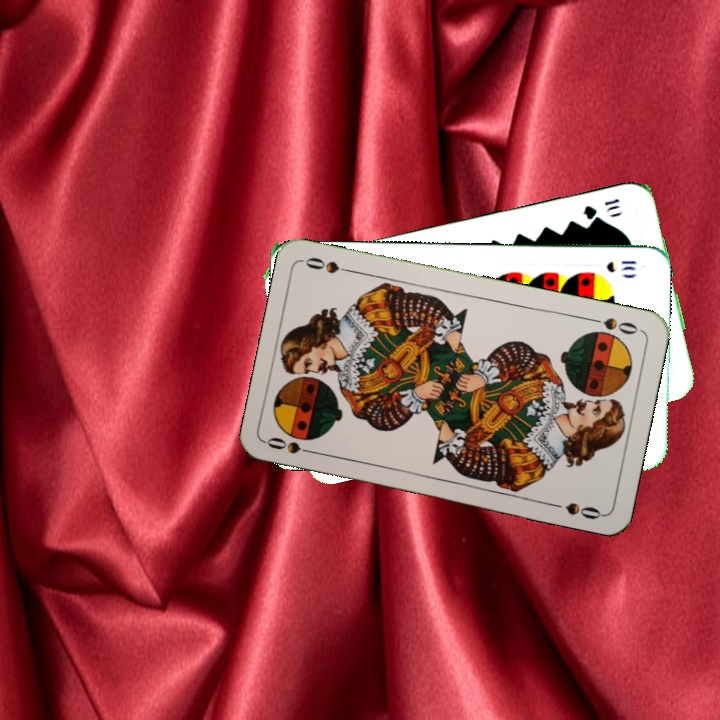G10: (579, 194, 624, 222)
S10: (602, 257, 639, 275)
SO: (263, 433, 322, 458), (585, 313, 644, 337)
